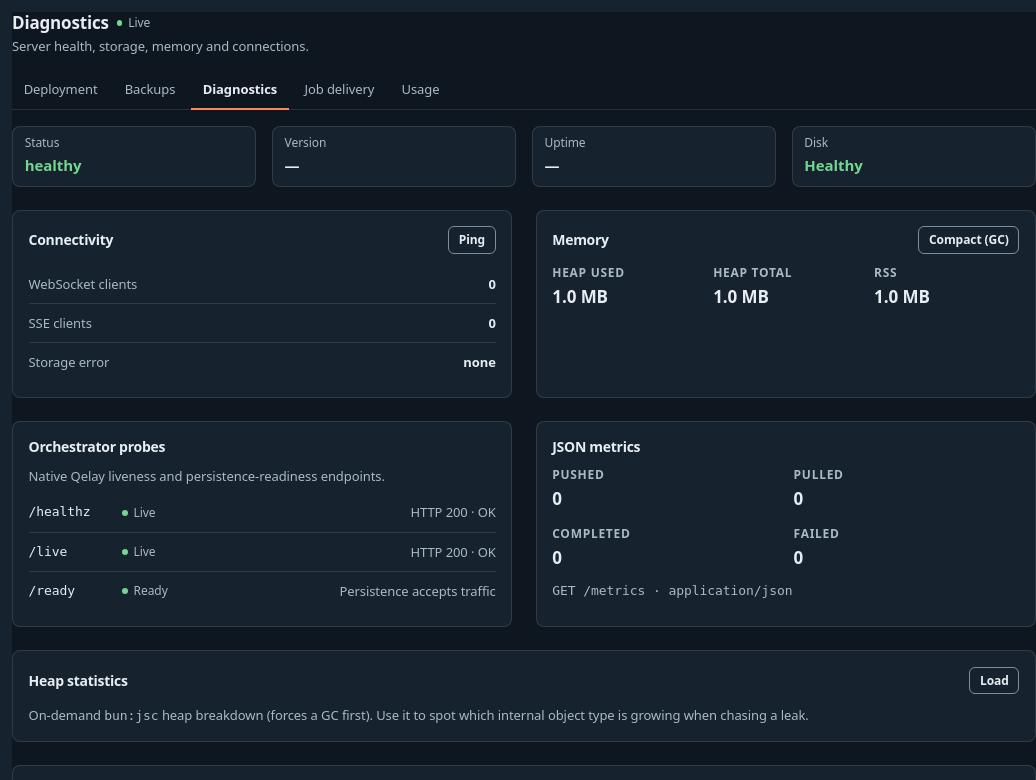
Diagnostics › the ping result fades in and the compaction message rises, both with the text they had
Step 1. Click the button "Ping" → (472, 240), box [448,226,496,254]
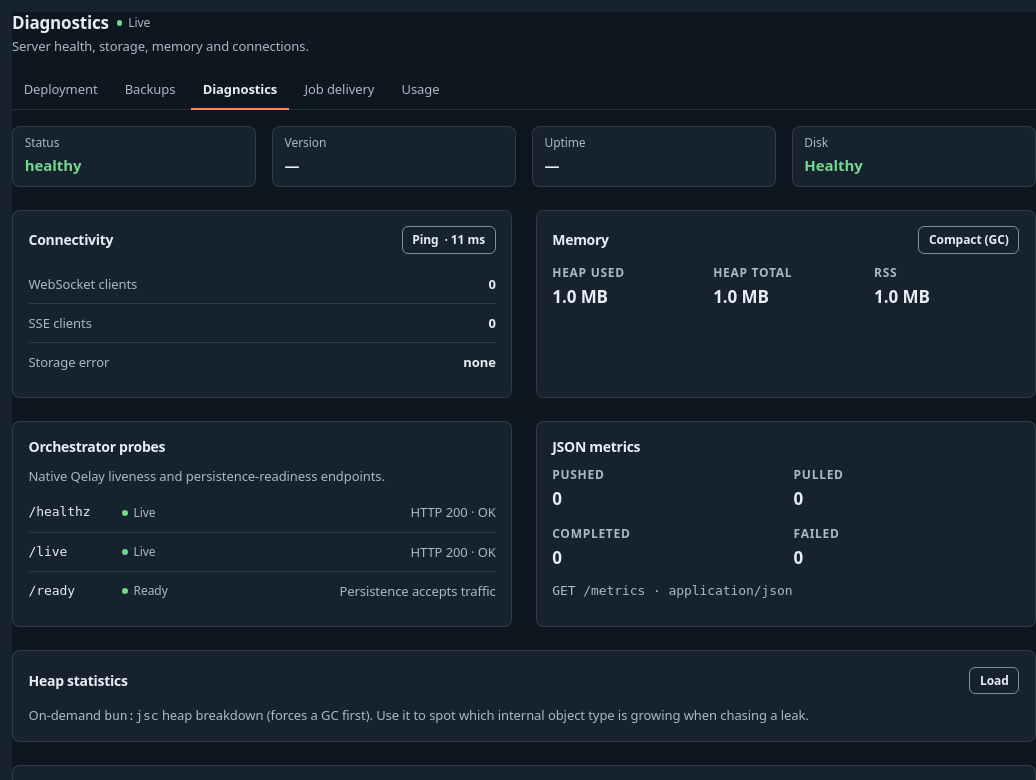
Expected: the text "· 11 ms" is shown, [444,234,485,246]
Expected: the text "Ping ·" is shown, [402,226,496,254]
Step 2. Click the button "Compact (GC)" → (969, 240), box [918,226,1020,254]
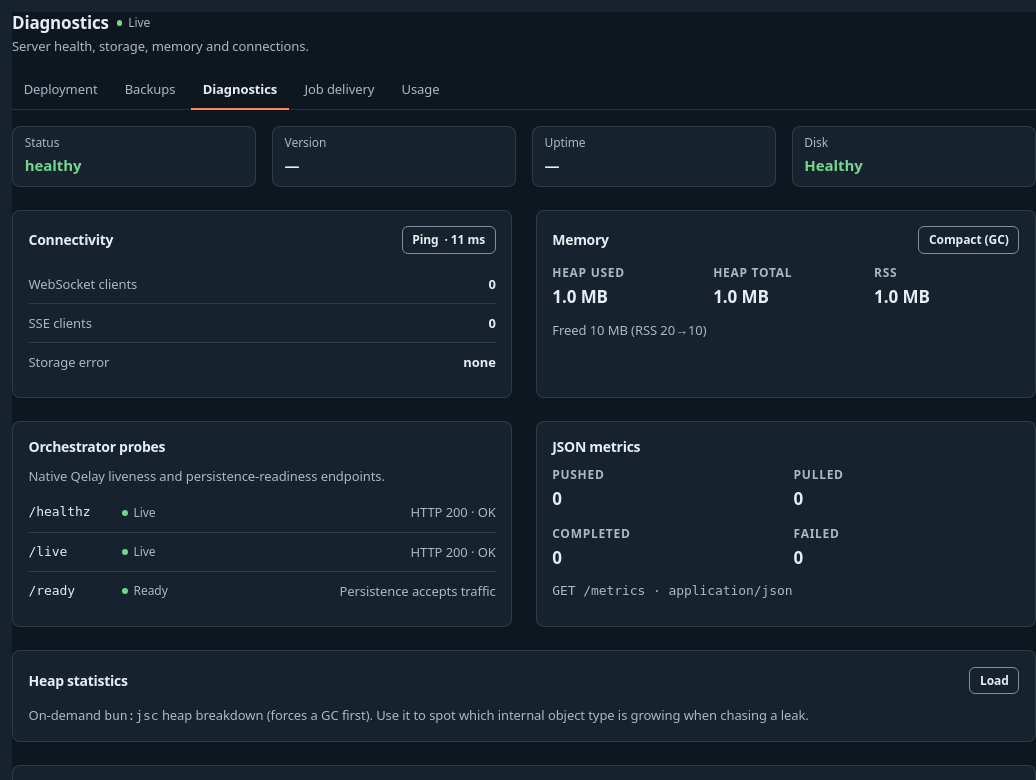
Expected: the text with class "motion-arrive" shows "Freed 10 MB", [552,321,706,339]
